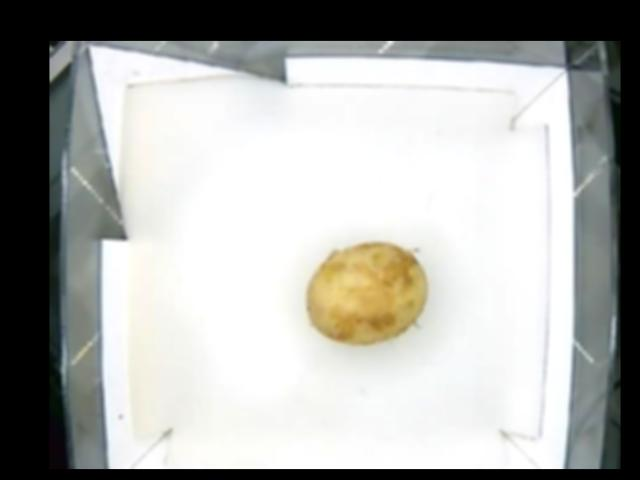Potato: (304, 243, 428, 345)
